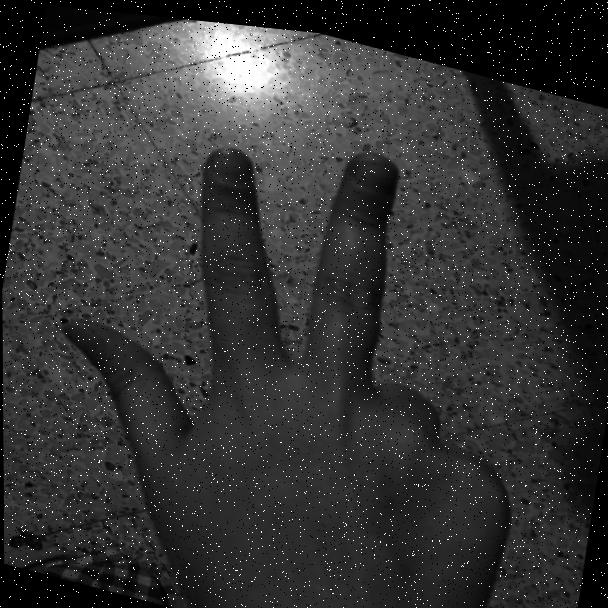three: (17, 60, 545, 608)
